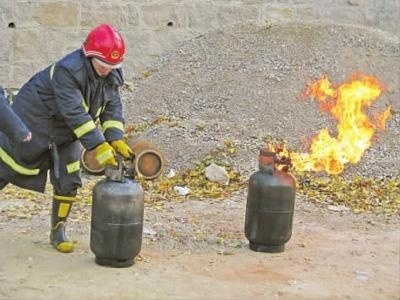fire: (271, 71, 392, 173)
